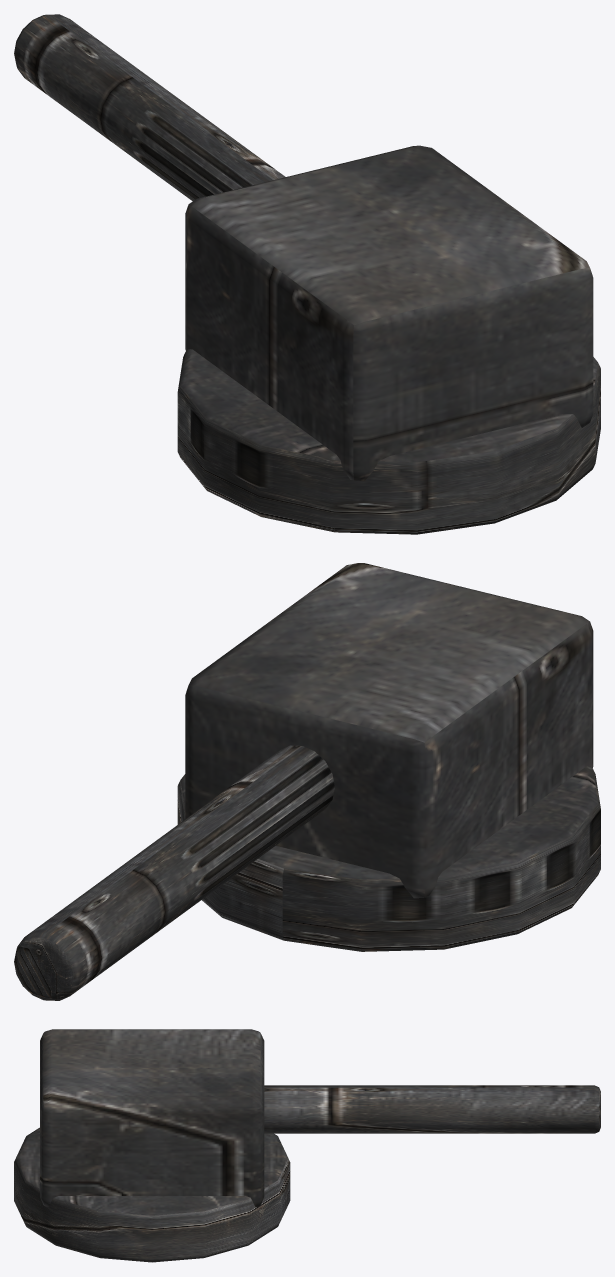
Rendered from weapon-punisher.gltf.
3 views of the same model, one above another, from view 1: azimuth 30°, elevation 25°; view 2: azimuth 150°, elevation 25°; view 3: azimuth 270°, elevation 25° (orthographic). The views are drawn at different scales.
Visible parts, largest first — view 1: Gun receiver.001, Turret ring.001, Muzzle.002; view 2: Gun receiver.001, Turret ring.001, Muzzle.002; view 3: Gun receiver.001, Turret ring.001, Muzzle.002.
Part boxes in pixels (x1=…): Gun receiver.001: x1=185, y1=145, x2=593, y2=481; Turret ring.001: x1=177, y1=349, x2=600, y2=534; Muzzle.002: x1=14, y1=14, x2=285, y2=201; Gun receiver.001: x1=185, y1=563, x2=593, y2=898; Turret ring.001: x1=177, y1=766, x2=600, y2=951; Muzzle.002: x1=14, y1=745, x2=334, y2=1000; Gun receiver.001: x1=40, y1=1029, x2=264, y2=1207; Turret ring.001: x1=14, y1=1127, x2=290, y2=1262; Muzzle.002: x1=264, y1=1085, x2=600, y2=1133.
Bounding box in the file's own units: 0.8 × 0.455 × 1.7.
1 material, 1 textured.
